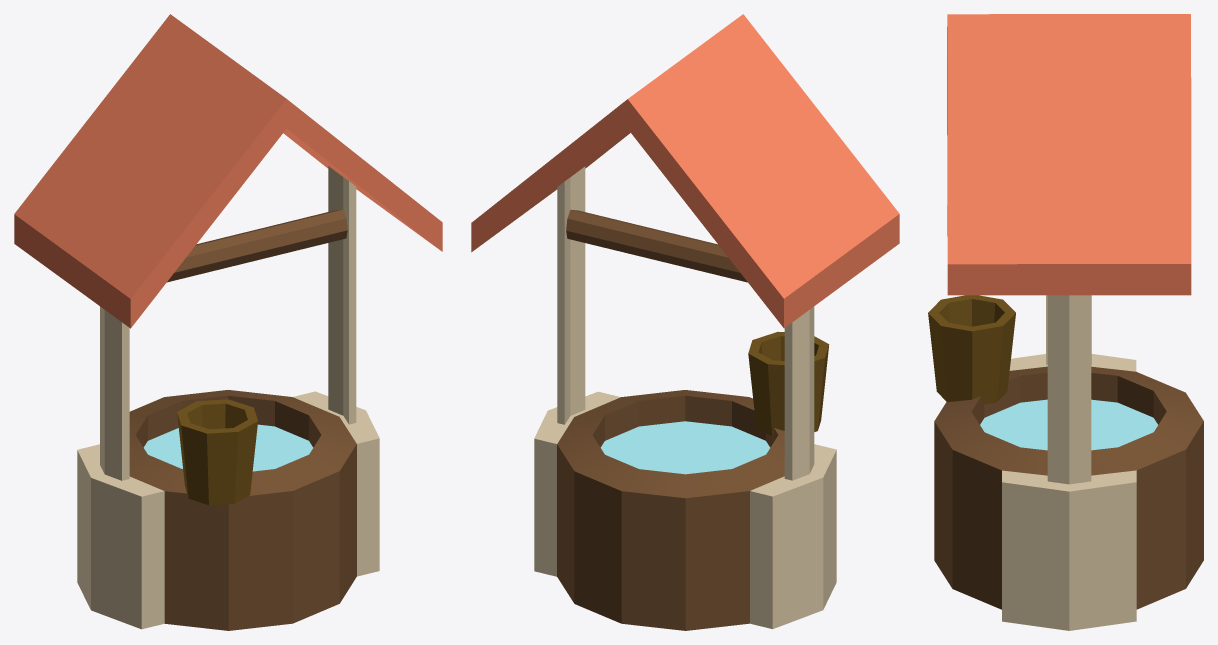
File: Asset_RessPlain_Well.fbx
3 views of the same model, side by side, from view 1: azimuth 30°, elevation 25°; view 2: azimuth 150°, elevation 25°; view 3: azimuth 270°, elevation 25° (orthographic). The views are drawn at different scales.
Parts seen in each view (by area): view 1: structure_puit, sceau, eau; view 2: structure_puit, eau, sceau; view 3: structure_puit, sceau, eau.
Part boxes in pixels (box(x1,y1,x2,y2)): structure_puit: box(14, 14, 442, 630); sceau: box(177, 399, 257, 505); eau: box(143, 424, 313, 471); structure_puit: box(471, 14, 899, 630); eau: box(600, 421, 770, 474); sceau: box(748, 331, 829, 436); structure_puit: box(934, 14, 1203, 630); sceau: box(928, 295, 1015, 404); eau: box(980, 399, 1157, 450).
Bounding box in the file's own units: 45.65 × 73.81 × 33.2.
